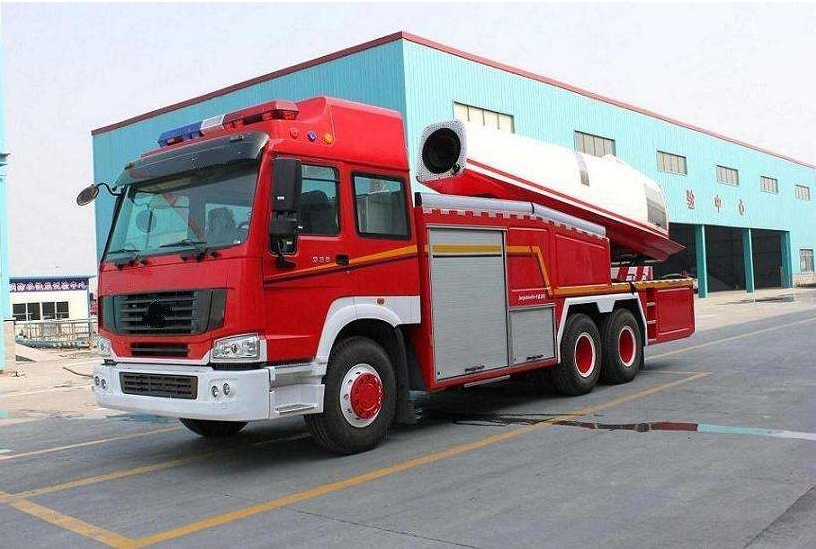fire engine: (76, 97, 703, 429)
